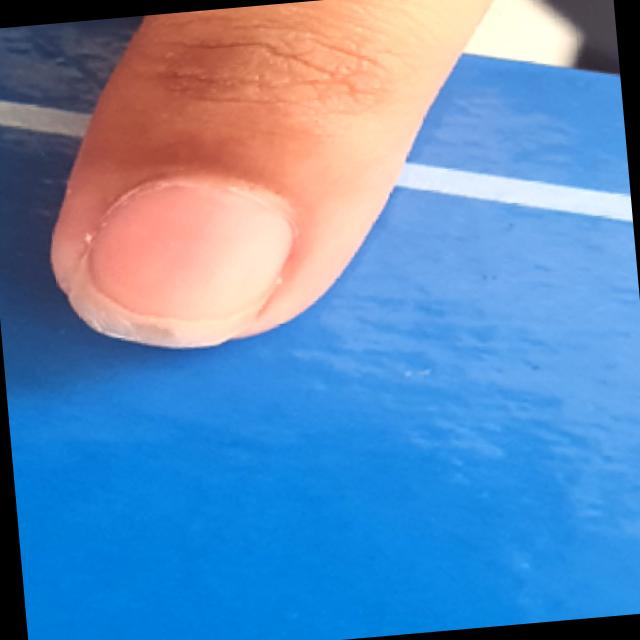Nail: (68, 181, 287, 347)
